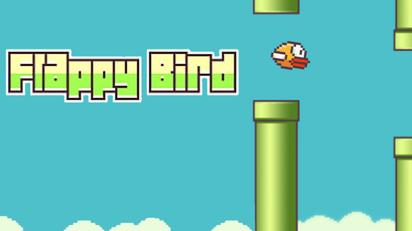flappybird: (270, 39, 311, 73)
green-pipe-down: (252, 99, 303, 231), (392, 135, 412, 229)
green-pipe-up: (394, 2, 412, 54), (251, 2, 301, 13)
